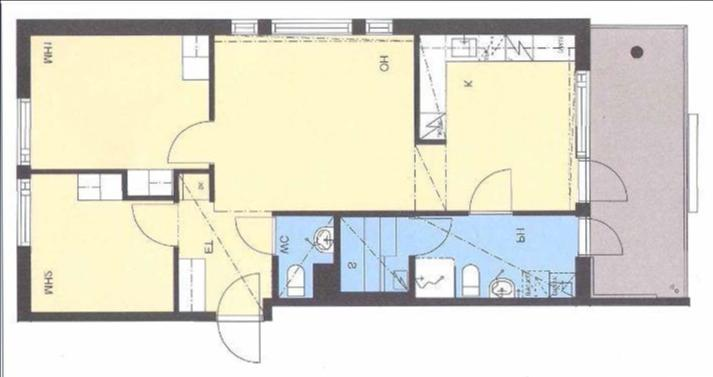bathroom: (454, 215, 578, 300), (276, 216, 332, 299)
door: (571, 157, 629, 208), (212, 313, 264, 364), (466, 164, 513, 220), (212, 271, 262, 322), (163, 117, 214, 165), (574, 214, 624, 260), (130, 201, 178, 248), (406, 214, 456, 256), (233, 216, 279, 256)
perimeter: (17, 18, 589, 322)
window: (264, 14, 354, 38), (574, 65, 592, 161), (14, 94, 34, 168), (12, 176, 32, 250), (227, 15, 261, 36), (361, 16, 396, 36)
